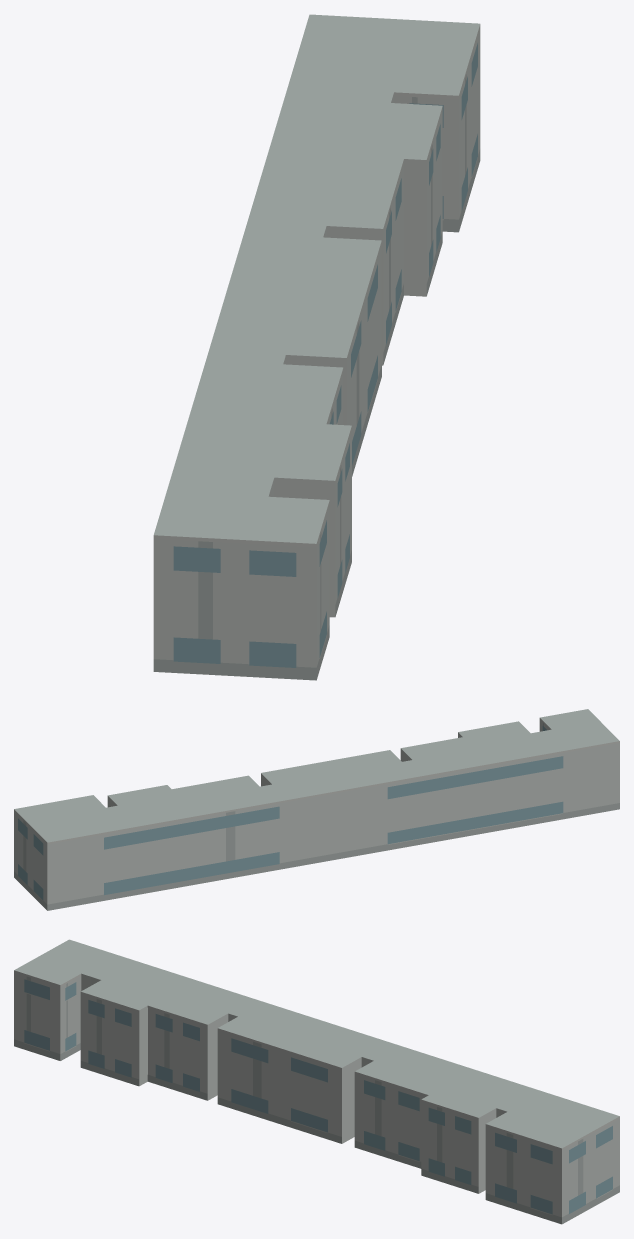
The model's file is residential-dcc6e065-d2c1-4e1f-ad59-8e0f56129b59.glb.
3 views of the same model, one above another, from view 1: azimuth 30°, elevation 25°; view 2: azimuth 150°, elevation 25°; view 3: azimuth 270°, elevation 25° (orthographic). The views are drawn at different scales.
Parts seen in each view (by area): view 1: residential-dcc6e065-d2c1-4e1f-ad59-8e0f56129b59.tmp; view 2: residential-dcc6e065-d2c1-4e1f-ad59-8e0f56129b59.tmp; view 3: residential-dcc6e065-d2c1-4e1f-ad59-8e0f56129b59.tmp.
Part boxes in pixels (<box>): residential-dcc6e065-d2c1-4e1f-ad59-8e0f56129b59.tmp: <box>153,14,480,680</box>; residential-dcc6e065-d2c1-4e1f-ad59-8e0f56129b59.tmp: <box>14,709,619,910</box>; residential-dcc6e065-d2c1-4e1f-ad59-8e0f56129b59.tmp: <box>14,939,619,1224</box>.
Size of the model in its own units: 53.94 by 9.15 by 66.09.
